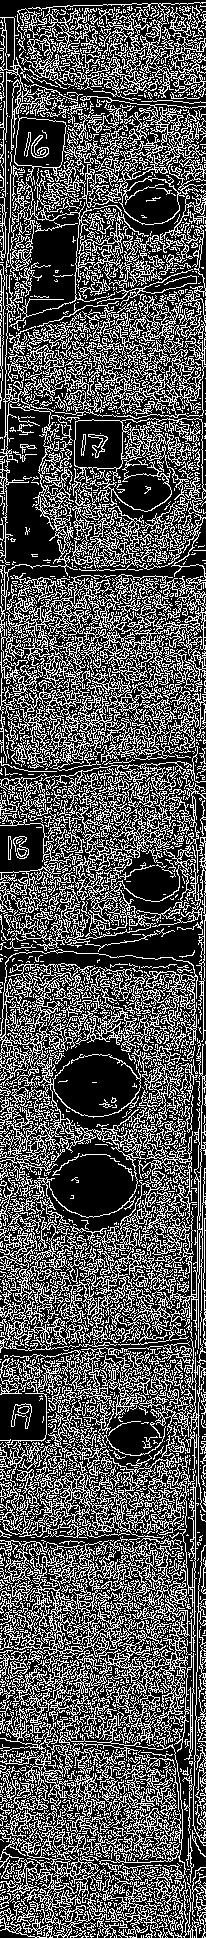hplug: (102, 447, 186, 531), (112, 166, 194, 239), (102, 1402, 178, 1475), (116, 844, 190, 916)
scal: (46, 1138, 146, 1233), (51, 1036, 148, 1132)
vplug: (1, 391, 81, 582), (16, 770, 100, 948), (20, 158, 96, 336)
